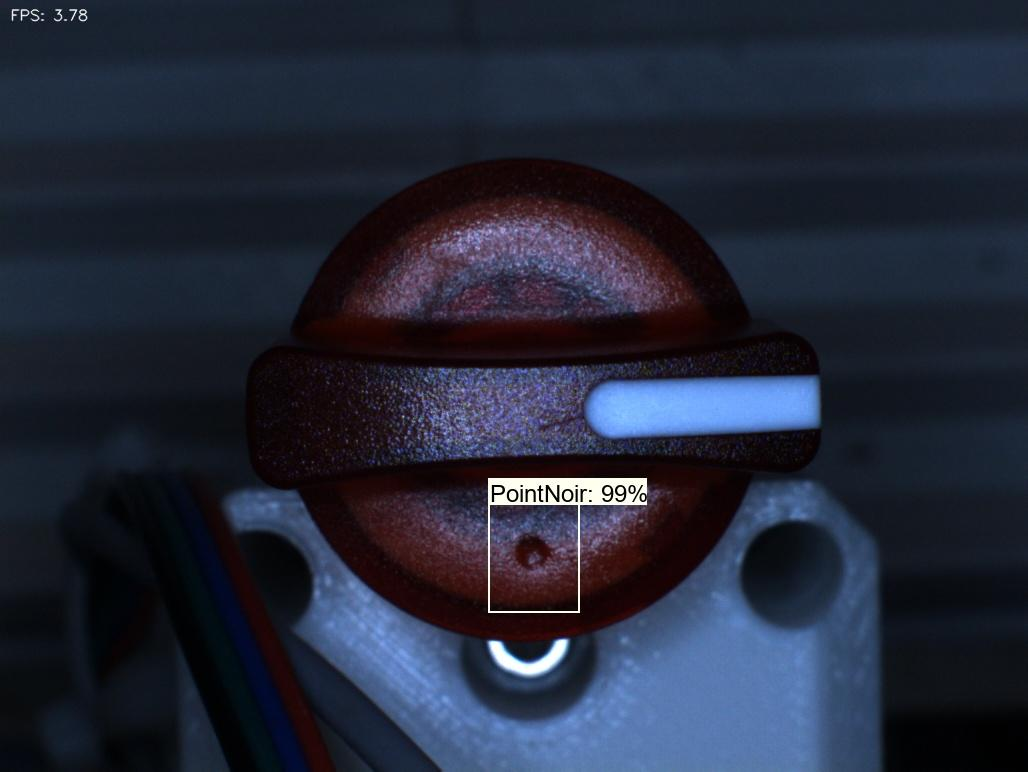Choc: (492, 521, 572, 599)
